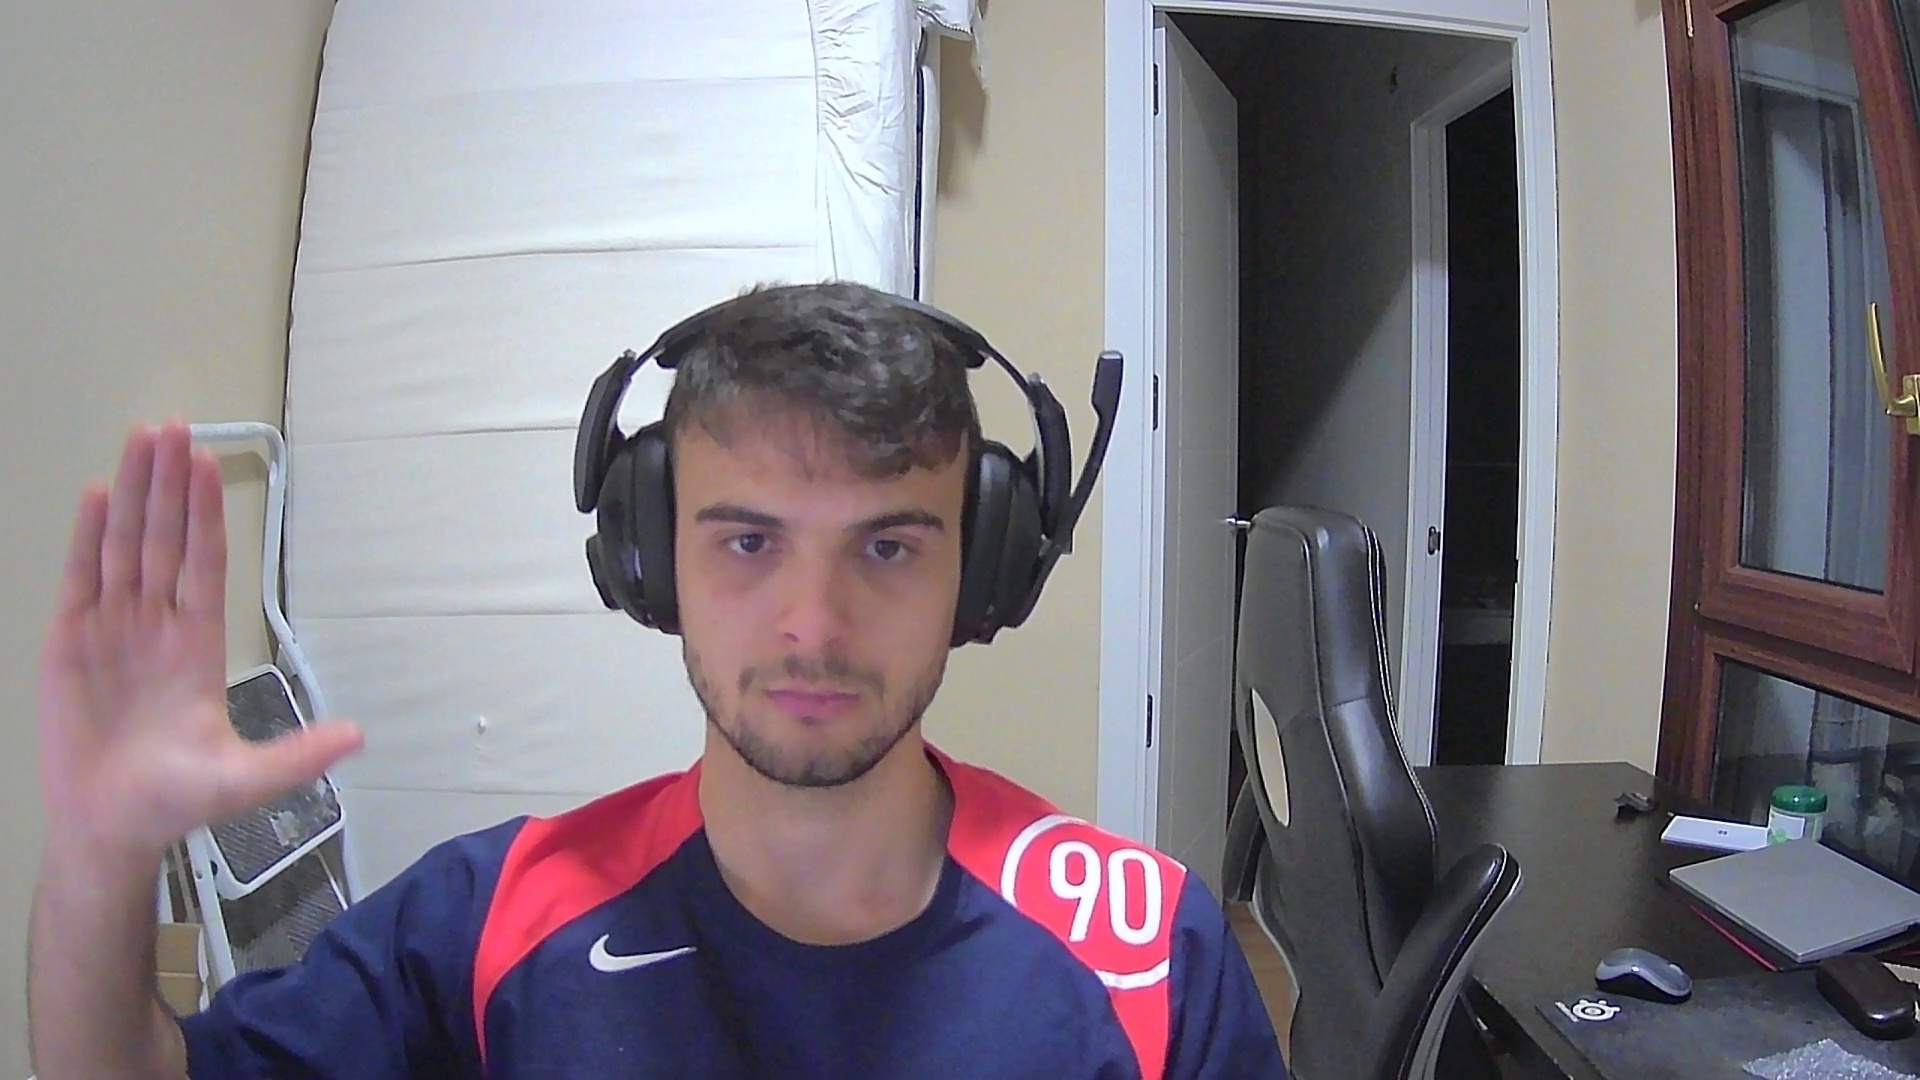Palm: (26, 414, 368, 844)
